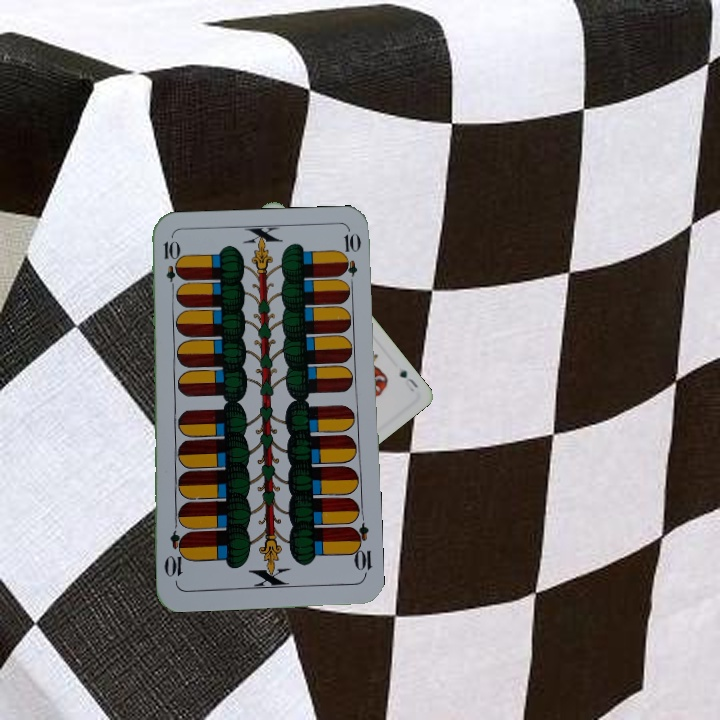E10: (347, 520, 374, 579), (160, 237, 179, 296)
GU: (395, 366, 421, 394)
